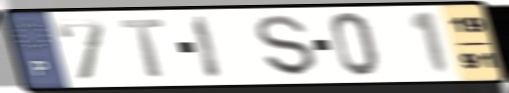0: (328, 11, 387, 79)
1: (409, 9, 451, 78)
7: (54, 17, 108, 82)
I: (189, 13, 227, 81)
S: (253, 13, 321, 78)
T: (116, 17, 168, 80)
